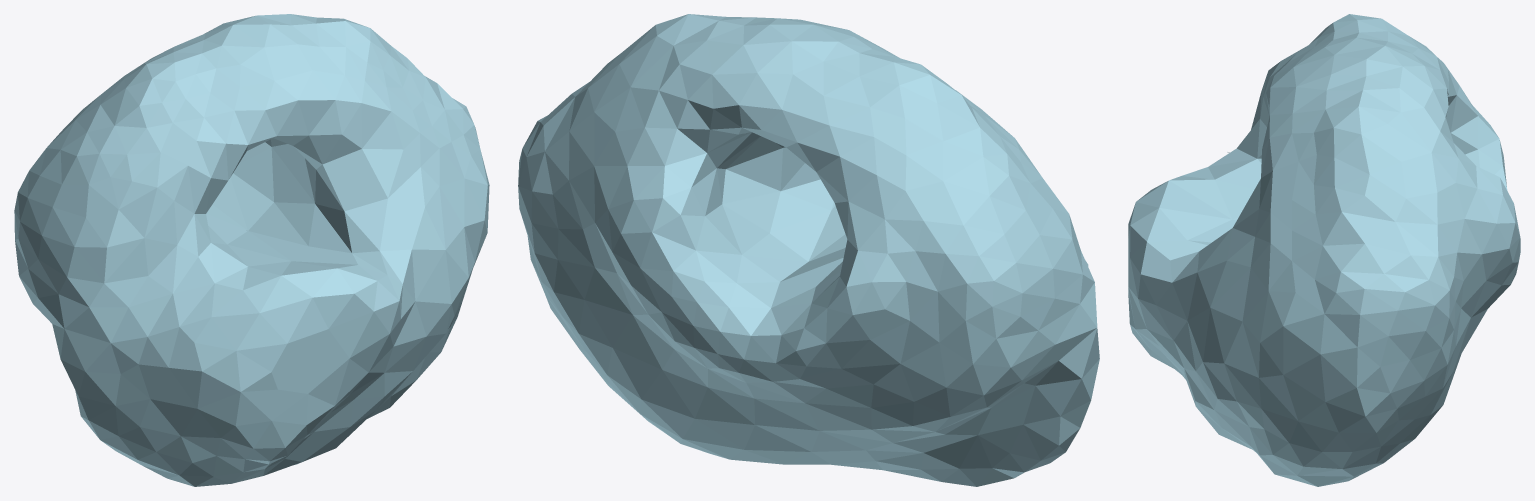
File: livertumor01.obj
3 renders of one model, left to right at view 1: azimuth 30°, elevation 25°; view 2: azimuth 150°, elevation 25°; view 3: azimuth 270°, elevation 25°, orthographic. The views are drawn at different scales.
Visible parts, largest first — view 1: grp1; view 2: grp1; view 3: grp1.
Boxes of the visible parts, x1=… form: grp1: x1=14, y1=14, x2=489, y2=486; grp1: x1=518, y1=14, x2=1099, y2=486; grp1: x1=1128, y1=14, x2=1520, y2=486.
Size of the model in its own units: 12.81 by 10.61 by 9.59.
